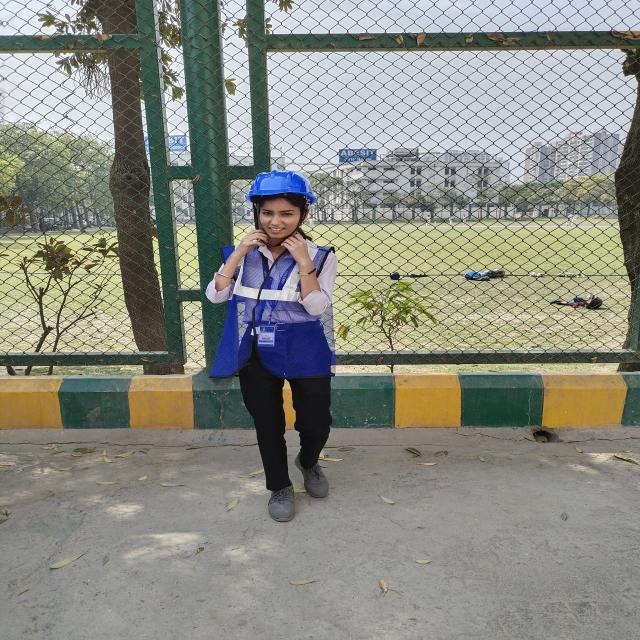safe: (206, 169, 336, 522)
